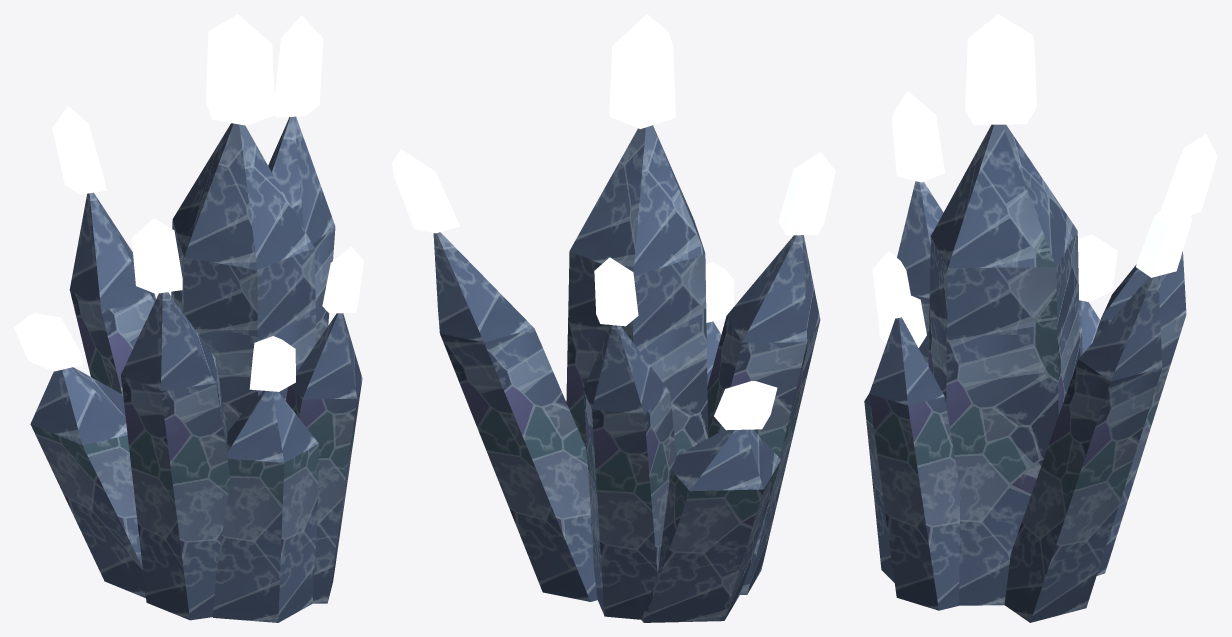
File: Oracle_Crystal_Cluster_1_LOD1.gltf
3 views of the same model, side by side, from view 1: azimuth 30°, elevation 25°; view 2: azimuth 150°, elevation 25°; view 3: azimuth 270°, elevation 25° (orthographic).
Parts seen in each view (by area): view 1: Oracle_Crystal_Cluster_1_LOD1; view 2: Oracle_Crystal_Cluster_1_LOD1; view 3: Oracle_Crystal_Cluster_1_LOD1.
Boxes of the visible parts, x1=… form: Oracle_Crystal_Cluster_1_LOD1: x1=14, y1=14, x2=363, y2=622; Oracle_Crystal_Cluster_1_LOD1: x1=392, y1=14, x2=835, y2=622; Oracle_Crystal_Cluster_1_LOD1: x1=864, y1=14, x2=1217, y2=622.
Bounding box in the file's own units: 3.1 × 4.85 × 2.75.
Materials: 2 (2 with a texture image).
